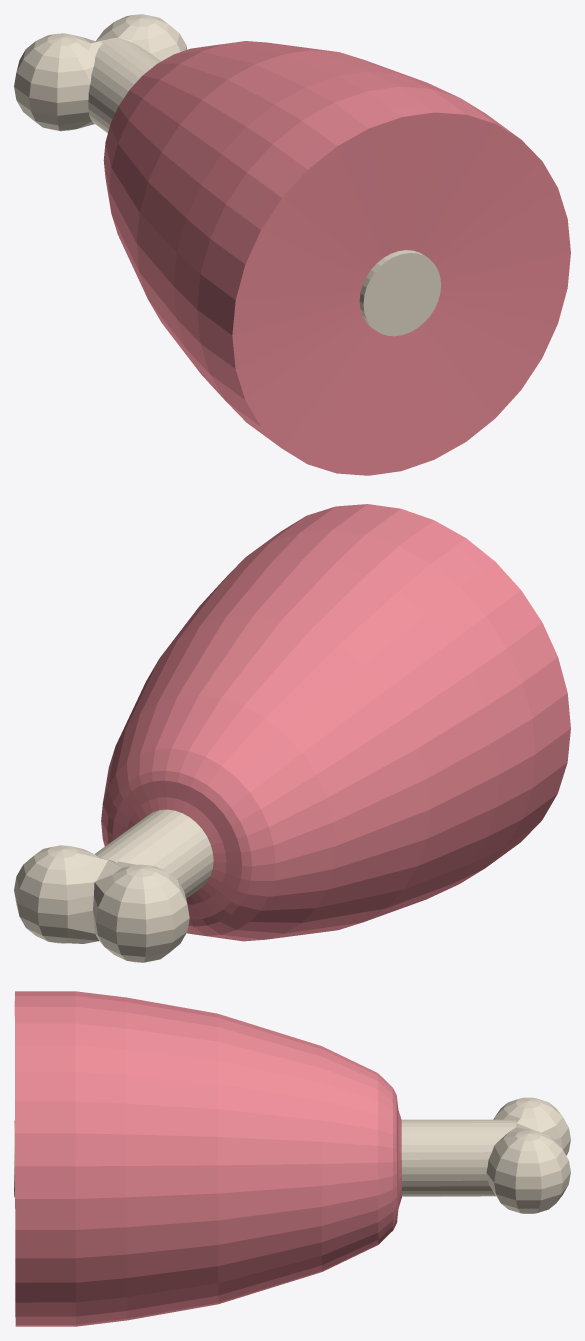
Rendered from meat.fbx.
The picture shows the model from 3 angles, top to bottom: view 1: azimuth 30°, elevation 25°; view 2: azimuth 150°, elevation 25°; view 3: azimuth 270°, elevation 25°; orthographic projection. The views are drawn at different scales.
Visible parts, largest first — view 1: Circle, Plane, Sphere.002, Sphere.001; view 2: Circle, Sphere.002, Sphere.001, Plane; view 3: Circle, Plane, Sphere.001, Sphere.002.
Boxes of the visible parts, <box> form: Circle: <box>103,41,570,475</box>; Plane: <box>88,37,440,336</box>; Sphere.002: <box>14,33,106,131</box>; Sphere.001: <box>96,14,187,61</box>; Circle: <box>101,504,570,941</box>; Sphere.002: <box>93,860,189,962</box>; Sphere.001: <box>14,845,107,943</box>; Plane: <box>95,809,213,898</box>; Circle: <box>14,991,401,1326</box>; Plane: <box>14,1119,516,1197</box>; Sphere.001: <box>486,1123,570,1213</box>; Sphere.002: <box>493,1097,570,1155</box>.
Size of the model in its own units: 60.56 by 60.56 by 100.
Materials: 4 (4 with a texture image).
